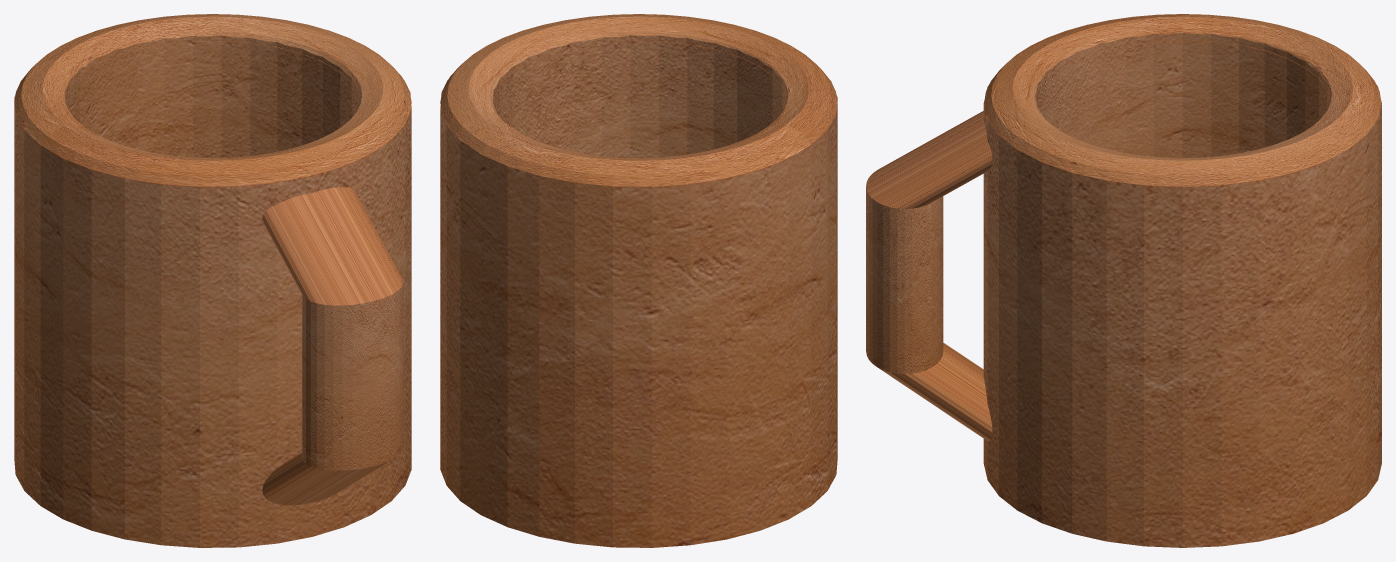
File: tazaTextura.obj
3 renders of one model, left to right at view 1: azimuth 30°, elevation 25°; view 2: azimuth 150°, elevation 25°; view 3: azimuth 270°, elevation 25°, orthographic.
Visible parts, largest first — view 1: Torus; view 2: Torus; view 3: Torus.
Part boxes in pixels (bbox=[...]): Torus: bbox=[14, 14, 411, 547]; Torus: bbox=[440, 14, 837, 547]; Torus: bbox=[866, 14, 1381, 547].
Size of the model in its own units: 2.7 by 2.81 by 3.5.
